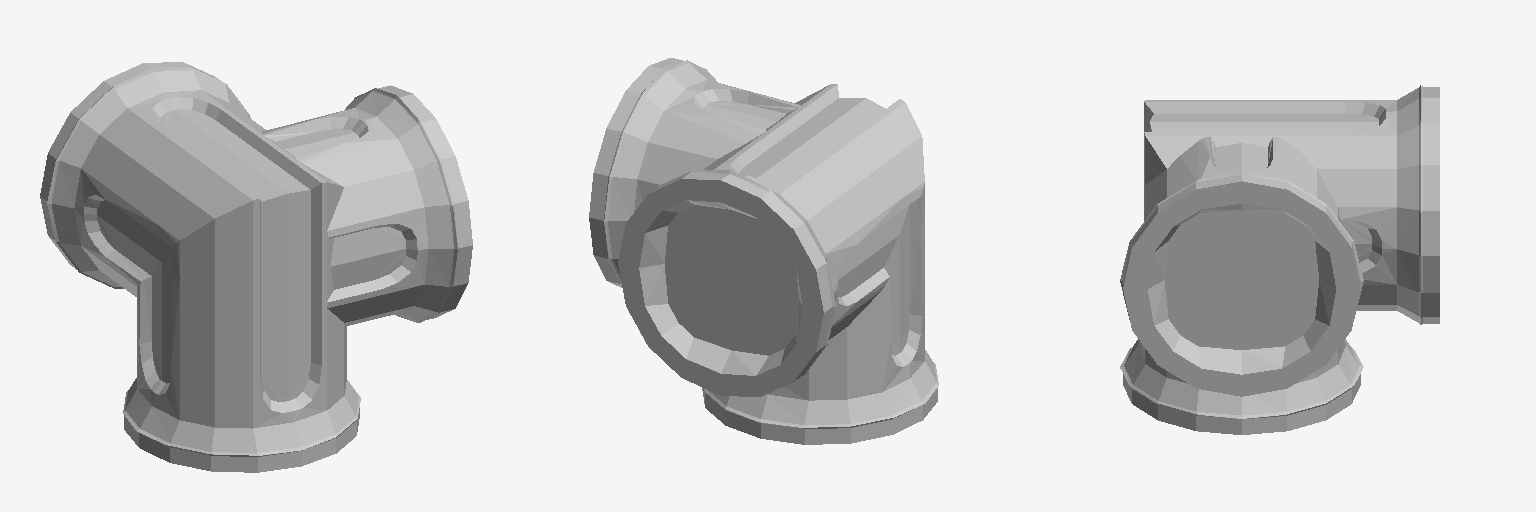
File: Pipe_3way_Corner.obj
3 renders of one model, left to right at view 1: azimuth 30°, elevation 25°; view 2: azimuth 150°, elevation 25°; view 3: azimuth 270°, elevation 25°, orthographic.
Visible parts, largest first — view 1: Cylinder.001_Cylinder.005; view 2: Cylinder.001_Cylinder.005; view 3: Cylinder.001_Cylinder.005.
Boxes of the visible parts, <box> form: Cylinder.001_Cylinder.005: <box>40,62,472,472</box>; Cylinder.001_Cylinder.005: <box>589,58,938,444</box>; Cylinder.001_Cylinder.005: <box>1120,85,1439,434</box>.
Bounding box in the file's own units: 0.8078 × 0.8078 × 0.8078.